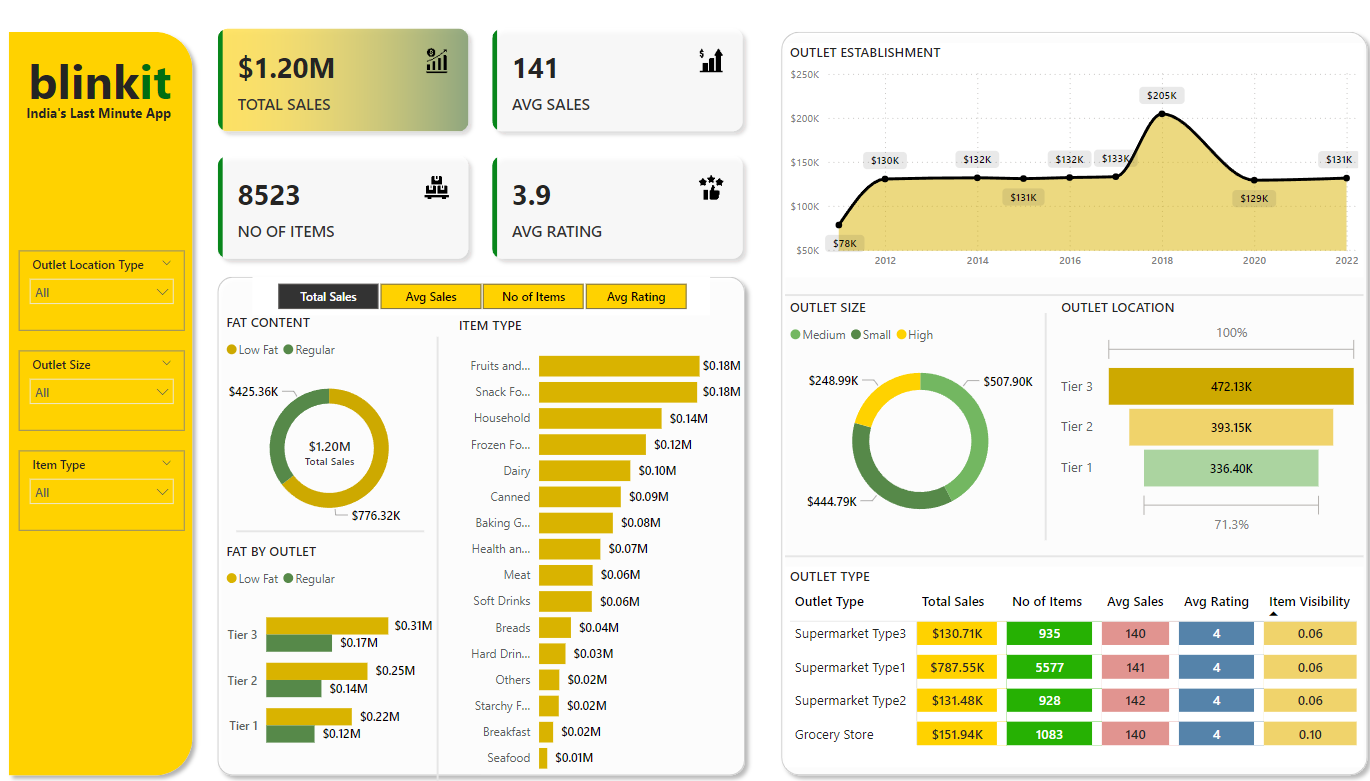

The dashboard page shown, as its layout file describes it:
{"tool":"powerbi","page":{"name":"Page 1","canvas":[1400,800],"ordinal":0},"visuals":[{"type":"shape","box":[0,25.4,204.8,774.5],"z":0},{"type":"textbox","box":[12.4,45.9,177.4,90.6],"z":1000},{"type":"textbox","box":[22.1,102.5,168.7,33.7],"z":2000},{"type":"cardVisual","fields":{"Data":["BlinkIT Grocery Data.Total Sales","BlinkIT Grocery Data.Avg Sales","BlinkIT Grocery Data.No of Items","BlinkIT Grocery Data.Avg Rating"]},"box":[204.8,14,569.8,269.6],"z":3000},{"type":"shape","box":[212.4,274.7,554.5,525.3],"z":4000},{"type":"donutChart","title":"FAT CONTENT","fields":{"Y":["BlinkIT Grocery Data.Total Sales"],"Category":["BlinkIT Grocery Data.Item Fat Content"]},"box":[225.7,320,220,230],"z":5000},{"type":"slicer","fields":{"Values":["Matrics.Matrics"]},"box":[256.9,283.6,465.5,39.4],"z":6000},{"type":"cardVisual","fields":{"Data":["BlinkIT Grocery Data.Total Sales"]},"box":[287.4,429.9,96.7,59.8],"z":7000},{"type":"clusteredBarChart","title":"FAT BY OUTLET","fields":{"Y":["BlinkIT Grocery Data.Total Sales"],"Category":["BlinkIT Grocery Data.Outlet Location Type"],"Series":["BlinkIT Grocery Data.Item Fat Content"]},"box":[225.7,552.9,220,230],"z":8000},{"type":"shape","box":[240,505.7,191.4,72.9],"z":9000},{"type":"shape","box":[368.6,344.3,152.9,455.7],"z":10000},{"type":"barChart","title":"ITEM TYPE","fields":{"Y":["BlinkIT Grocery Data.Total Sales"],"Category":["BlinkIT Grocery Data.Item Type"]},"box":[461.4,322.9,297.1,477.1],"z":11000},{"type":"shape","box":[785.7,25.7,614.3,774.3],"z":12000},{"type":"lineChart","title":"OUTLET ESTABLISHMENT","fields":{"Y":["BlinkIT Grocery Data.Total Sales"],"Category":["BlinkIT Grocery Data.Outlet Establishment Year"]},"box":[798.6,45.7,588.6,238.6],"z":13000},{"type":"shape","box":[798.6,265.7,588.6,72.9],"z":14000},{"type":"donutChart","title":"OUTLET SIZE","fields":{"Y":["BlinkIT Grocery Data.Total Sales"],"Category":["BlinkIT Grocery Data.Outlet Size"]},"box":[798.6,305.7,275.7,245.7],"z":15000},{"type":"shape","box":[1011.4,320,105.7,231.4],"z":16000},{"type":"funnel","title":"OUTLET LOCATION","fields":{"Y":["Sum(BlinkIT Grocery Data.Sales)"],"Category":["BlinkIT Grocery Data.Outlet Location Type"]},"box":[1074.3,305.7,312.9,245.7],"z":17000},{"type":"shape","box":[798.6,531.4,588.6,72.9],"z":18000},{"type":"pivotTable","title":"OUTLET TYPE","fields":{"Rows":["BlinkIT Grocery Data.Outlet Type"],"Values":["BlinkIT Grocery Data.Total Sales","BlinkIT Grocery Data.No of Items","BlinkIT Grocery Data.Avg Sales","BlinkIT Grocery Data.Avg Rating","Avg(BlinkIT Grocery Data.Item Visibility)"]},"box":[798.6,578.6,588.6,204.3],"z":19000},{"type":"slicer","fields":{"Values":["BlinkIT Grocery Data.Outlet Location Type"]},"box":[18.6,257.1,168.6,81.4],"z":20000},{"type":"slicer","fields":{"Values":["BlinkIT Grocery Data.Outlet Size"]},"box":[18.6,358.6,168.6,81.4],"z":20001},{"type":"slicer","fields":{"Values":["BlinkIT Grocery Data.Item Type"]},"box":[18.6,460,168.6,81.4],"z":20002}]}

Visuals, with their boxes in screenshot pixels (x1, y1, x2, y2), scaled from the page's 1400x800 canvas onto the 1370x781 screenshot:
shape: <bbox>0, 25, 200, 780</bbox>
textbox: <bbox>12, 45, 186, 133</bbox>
textbox: <bbox>22, 100, 187, 133</bbox>
cardVisual - BlinkIT Grocery Data.Total Sales x BlinkIT Grocery Data.Avg Sales: <bbox>200, 14, 758, 277</bbox>
shape: <bbox>208, 268, 750, 780</bbox>
"FAT CONTENT" donutChart: <bbox>221, 312, 436, 537</bbox>
slicer - Matrics.Matrics: <bbox>251, 277, 707, 315</bbox>
cardVisual - BlinkIT Grocery Data.Total Sales: <bbox>281, 420, 376, 478</bbox>
"FAT BY OUTLET" clusteredBarChart: <bbox>221, 540, 436, 764</bbox>
shape: <bbox>235, 494, 422, 565</bbox>
shape: <bbox>361, 336, 510, 780</bbox>
"ITEM TYPE" barChart: <bbox>452, 315, 742, 780</bbox>
shape: <bbox>769, 25, 1369, 780</bbox>
"OUTLET ESTABLISHMENT" lineChart: <bbox>781, 45, 1357, 278</bbox>
shape: <bbox>781, 259, 1357, 331</bbox>
"OUTLET SIZE" donutChart: <bbox>781, 298, 1051, 538</bbox>
shape: <bbox>990, 312, 1093, 538</bbox>
"OUTLET LOCATION" funnel: <bbox>1051, 298, 1357, 538</bbox>
shape: <bbox>781, 519, 1357, 590</bbox>
"OUTLET TYPE" pivotTable: <bbox>781, 565, 1357, 764</bbox>
slicer - BlinkIT Grocery Data.Outlet Location Type: <bbox>18, 251, 183, 330</bbox>
slicer - BlinkIT Grocery Data.Outlet Size: <bbox>18, 350, 183, 430</bbox>
slicer - BlinkIT Grocery Data.Item Type: <bbox>18, 449, 183, 529</bbox>
